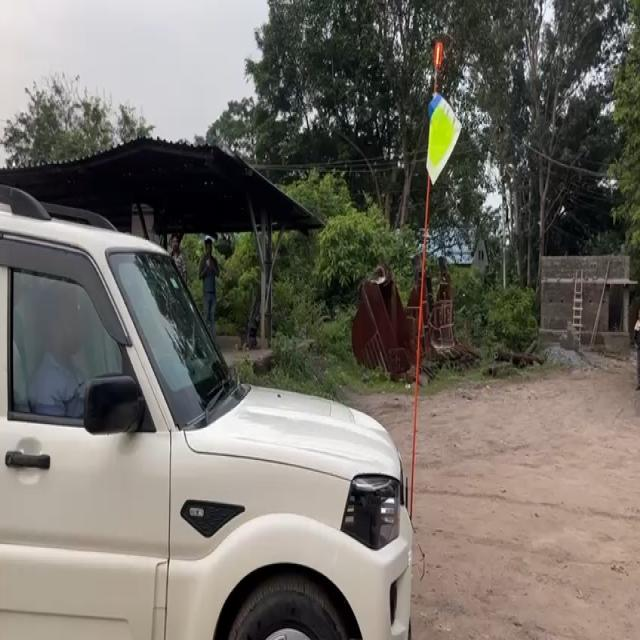light_vehicle: (0, 185, 412, 640)
